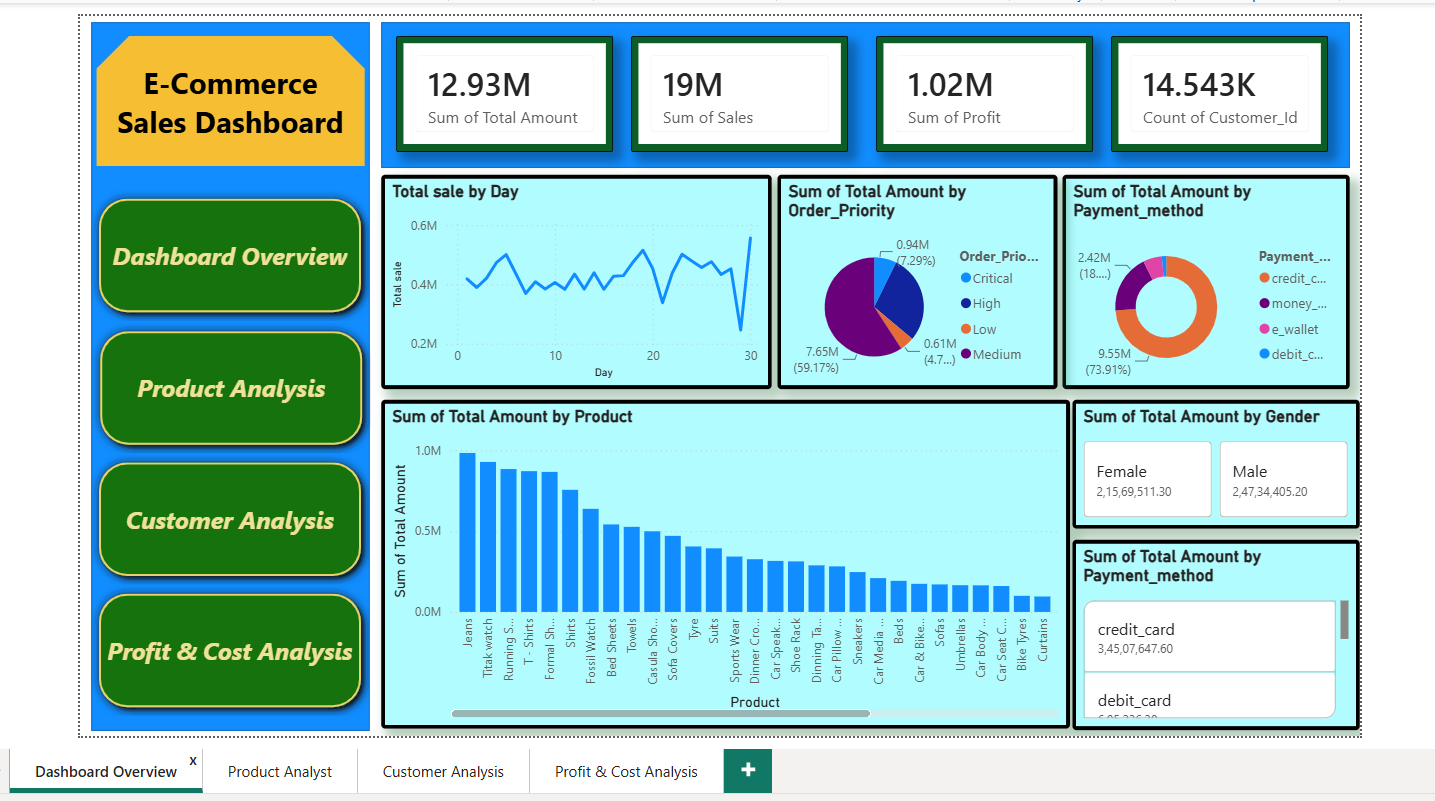

Layout of this report page (visuals, bound fields, positions):
{"tool":"powerbi","page":{"name":"Dashboard Overview","canvas":[1280,720],"ordinal":0},"visuals":[{"type":"shape","box":[11.4,5.7,278.6,708.6],"z":0},{"type":"shape","box":[10,174.3,280,131.4],"z":1000},{"type":"shape","box":[11.4,305.7,280,131.4],"z":2000},{"type":"shape","box":[10,437.1,280,131.4],"z":3000},{"type":"shape","box":[10,568.6,280,131.4],"z":4000},{"type":"shape","box":[301.4,5.7,968.6,145.7],"z":5000},{"type":"cardVisual","fields":{"Data":["Sum(E-commerce Dataset.Total Amount)"]},"box":[315.7,20,217.1,115.7],"z":6000},{"type":"cardVisual","fields":{"Data":["Sum(E-commerce Dataset.Sales)"]},"box":[551.4,20,217.1,115.7],"z":7000},{"type":"cardVisual","fields":{"Data":["Sum(E-commerce Dataset.Profit)"]},"box":[795.7,20,217.1,115.7],"z":8000},{"type":"cardVisual","fields":{"Data":["CountNonNull(E-commerce Dataset.Customer_Id)"]},"box":[1031.4,20,217.1,115.7],"z":9000},{"type":"lineChart","fields":{"Category":["E-commerce Dataset.Order_Date.Variation.Date Hierarchy.Year","E-commerce Dataset.Order_Date.Variation.Date Hierarchy.Quarter","E-commerce Dataset.Order_Date.Variation.Date Hierarchy.Month","E-commerce Dataset.Order_Date.Variation.Date Hierarchy.Day"],"Y":["E-commerce Dataset.Total sale"]},"box":[301.4,158.6,390,214.3],"z":10000},{"type":"donutChart","fields":{"Category":["E-commerce Dataset.Payment_method"],"Y":["Sum(E-commerce Dataset.Total Amount)"]},"box":[982.9,158.6,287.1,214.3],"z":11000},{"type":"pieChart","fields":{"Y":["Sum(E-commerce Dataset.Total Amount)"],"Series":["E-commerce Dataset.Order_Priority"]},"box":[697.1,158.6,280,214.3],"z":12000},{"type":"columnChart","fields":{"Category":["E-commerce Dataset.Product"],"Y":["Sum(E-commerce Dataset.Total Amount)"]},"box":[301.4,384.3,688.6,328.6],"z":13000},{"type":"advancedSlicerVisual","fields":{"Values":["E-commerce Dataset.Gender"],"Label":["Sum(E-commerce Dataset.Total Amount)"]},"box":[992.9,384.3,287.1,128.6],"z":14000},{"type":"advancedSlicerVisual","fields":{"Values":["E-commerce Dataset.Payment_method"],"Label":["Sum(E-commerce Dataset.Total Amount)"]},"box":[992.9,524.3,287.1,190],"z":15000},{"type":"shape","box":[15.7,20,268.6,130],"z":16000},{"type":"actionButton","box":[28.6,325.7,241.4,91.4],"z":17000},{"type":"actionButton","box":[30,327.1,241.4,91.4],"z":18000},{"type":"actionButton","box":[31.4,194.3,241.4,91.4],"z":19000},{"type":"actionButton","box":[31.4,457.1,241.4,91.4],"z":20000},{"type":"actionButton","box":[31.4,588.6,241.4,91.4],"z":21000}]}

Visuals, with their boxes on the page's 1280x720 design canvas (x1, y1, x2, y2). These are canvas units, not pixel positions in the 1435x801 screenshot, which may show the page scaled, cropped or inside an application window:
shape: <bbox>11, 6, 290, 714</bbox>
shape: <bbox>10, 174, 290, 306</bbox>
shape: <bbox>11, 306, 291, 437</bbox>
shape: <bbox>10, 437, 290, 568</bbox>
shape: <bbox>10, 569, 290, 700</bbox>
shape: <bbox>301, 6, 1270, 151</bbox>
cardVisual - Sum(E-commerce Dataset.Total Amount): <bbox>316, 20, 533, 136</bbox>
cardVisual - Sum(E-commerce Dataset.Sales): <bbox>551, 20, 768, 136</bbox>
cardVisual - Sum(E-commerce Dataset.Profit): <bbox>796, 20, 1013, 136</bbox>
cardVisual - CountNonNull(E-commerce Dataset.Customer_Id): <bbox>1031, 20, 1248, 136</bbox>
lineChart - E-commerce Dataset.Order_Date.Variation.Date Hierarchy.Year x E-commerce Dataset.Order_Date.Variation.Date Hierarchy.Quarter: <bbox>301, 159, 691, 373</bbox>
donutChart - E-commerce Dataset.Payment_method x Sum(E-commerce Dataset.Total Amount): <bbox>983, 159, 1270, 373</bbox>
pieChart - Sum(E-commerce Dataset.Total Amount) x E-commerce Dataset.Order_Priority: <bbox>697, 159, 977, 373</bbox>
columnChart - E-commerce Dataset.Product x Sum(E-commerce Dataset.Total Amount): <bbox>301, 384, 990, 713</bbox>
advancedSlicerVisual - E-commerce Dataset.Gender x Sum(E-commerce Dataset.Total Amount): <bbox>993, 384, 1280, 513</bbox>
advancedSlicerVisual - E-commerce Dataset.Payment_method x Sum(E-commerce Dataset.Total Amount): <bbox>993, 524, 1280, 714</bbox>
shape: <bbox>16, 20, 284, 150</bbox>
actionButton: <bbox>29, 326, 270, 417</bbox>
actionButton: <bbox>30, 327, 271, 418</bbox>
actionButton: <bbox>31, 194, 273, 286</bbox>
actionButton: <bbox>31, 457, 273, 548</bbox>
actionButton: <bbox>31, 589, 273, 680</bbox>
